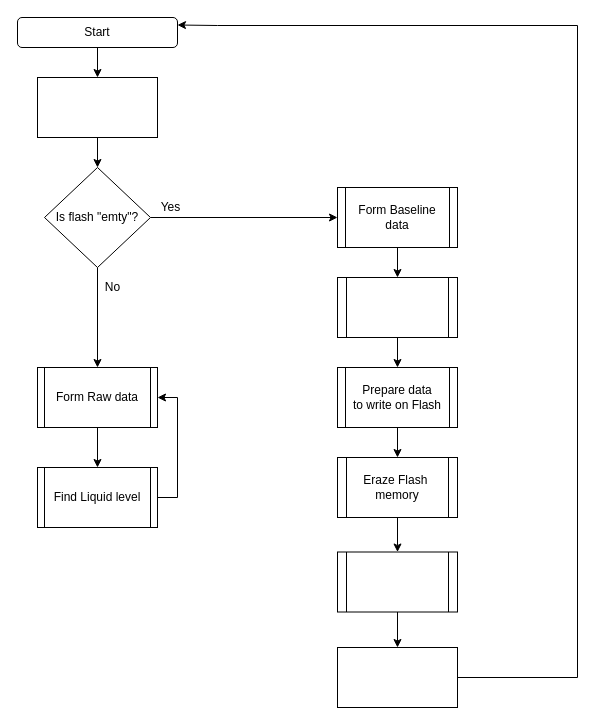
The diagram is 603 pixels wide and 725 high, and some of its shapes have lost their labels. The centre of each missing label's shape, as x and y in pixels:
"Flash scanning" belongs at point 97,107.
"Get checksum" belongs at point 397,307.
"Reset" belongs at point 397,677.
"Write prepared data on Flash" belongs at point 397,581.
